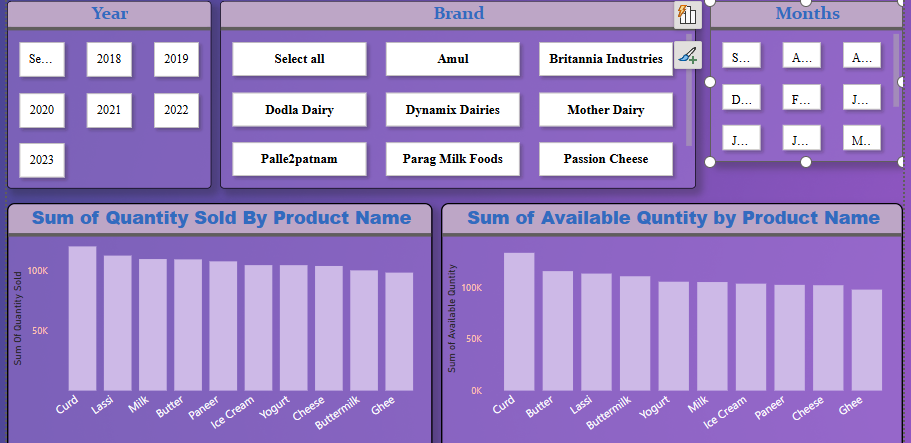

What the dashboard file says about the page in this screenshot:
{"tool":"powerbi","page":{"name":"Page 2","canvas":[1280,720],"ordinal":1},"visuals":[{"type":"clusteredColumnChart","title":"Sum of Quantity Sold By Product Name","fields":{"Category":["dairy_analysis.Product Name"],"Y":["Sum(dairy_analysis.Quantity Sold (liters/kg))"]},"box":[0,354,608,366],"z":0},{"type":"advancedSlicerVisual","fields":{"Values":["dairy_analysis.Year"]},"box":[0,66,292,268],"z":1000},{"type":"columnChart","fields":{"Y":["Sum(dairy_analysis.Available Quntity)"],"Category":["dairy_analysis.Product Name"]},"box":[620,354,660,366],"z":2000},{"type":"advancedSlicerVisual","fields":{"Values":["dairy_analysis.Brand"]},"box":[304,66,680,268],"z":3000},{"type":"advancedSlicerVisual","fields":{"Values":["dairy_analysis.Months"]},"box":[1003.9,65.9,276.6,229.8],"z":4000}]}

Visuals, with their boxes on the page's 1280x720 design canvas (x1, y1, x2, y2). These are canvas units, not pixel positions in the 911x443 screenshot, which may show the page scaled, cropped or inside an application window:
"Sum of Quantity Sold By Product Name" clusteredColumnChart: <box>0,354,608,720</box>
advancedSlicerVisual - dairy_analysis.Year: <box>0,66,292,334</box>
columnChart - Sum(dairy_analysis.Available Quntity) x dairy_analysis.Product Name: <box>620,354,1280,720</box>
advancedSlicerVisual - dairy_analysis.Brand: <box>304,66,984,334</box>
advancedSlicerVisual - dairy_analysis.Months: <box>1004,66,1280,296</box>
